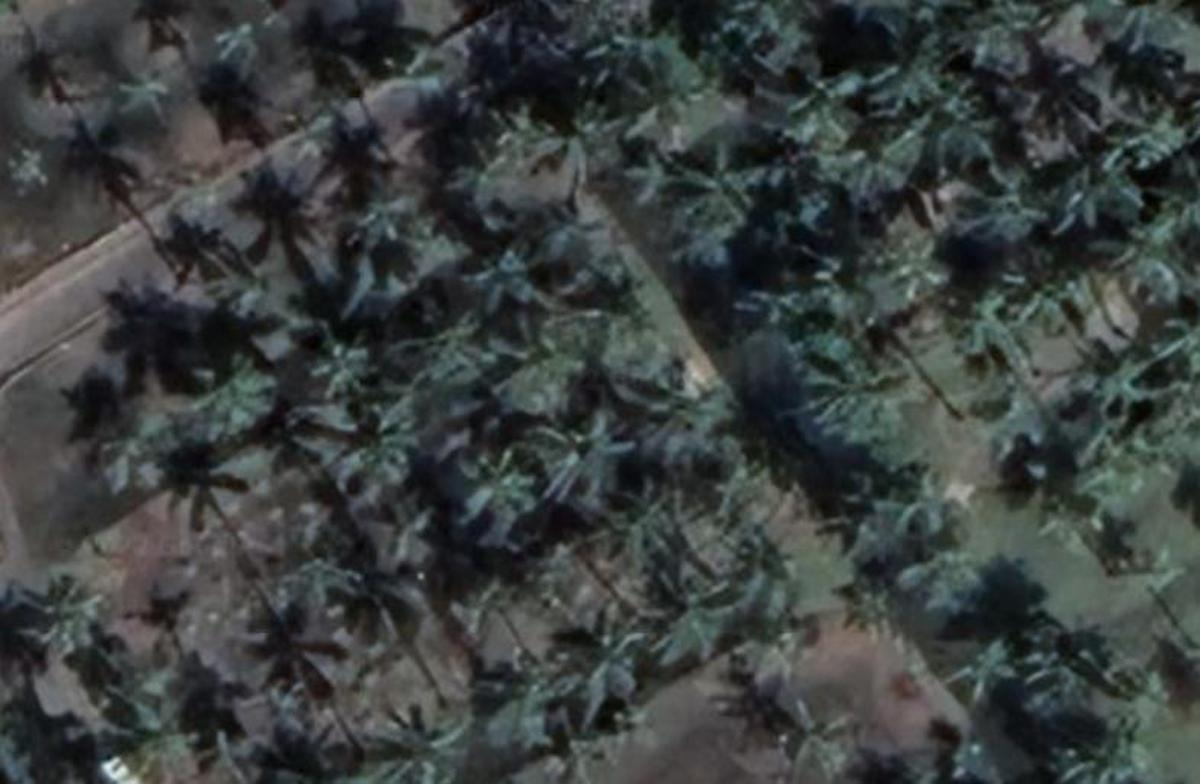coconut: (231, 573, 361, 692), (103, 683, 236, 784), (282, 297, 393, 411), (619, 355, 730, 466), (89, 385, 204, 492), (521, 390, 625, 506), (3, 558, 111, 669), (182, 225, 298, 327), (437, 433, 542, 544), (678, 131, 783, 242), (1017, 428, 1132, 527), (750, 692, 870, 784), (481, 318, 583, 424), (995, 47, 1100, 149), (454, 91, 553, 198), (722, 594, 824, 697), (535, 82, 632, 189), (806, 332, 908, 433), (308, 385, 414, 478), (606, 45, 705, 144), (553, 600, 657, 694), (1039, 131, 1139, 228), (391, 300, 489, 398), (182, 335, 286, 425), (780, 56, 875, 154), (343, 157, 442, 251), (373, 698, 481, 784), (1106, 205, 1200, 303), (1017, 616, 1114, 710), (713, 509, 797, 617), (1062, 337, 1149, 439), (780, 245, 869, 344), (1058, 701, 1164, 784), (593, 471, 683, 568), (349, 483, 442, 576), (628, 562, 721, 654), (904, 73, 998, 161), (940, 282, 1033, 370), (963, 157, 1053, 247), (811, 474, 893, 568), (878, 13, 963, 103), (1017, 256, 1106, 340), (468, 221, 548, 314), (565, 269, 651, 355), (1120, 77, 1200, 163), (873, 465, 963, 538), (882, 224, 968, 300), (489, 639, 571, 716), (937, 631, 1007, 716), (527, 712, 609, 784), (831, 564, 905, 640), (205, 18, 280, 86), (108, 59, 181, 126)
